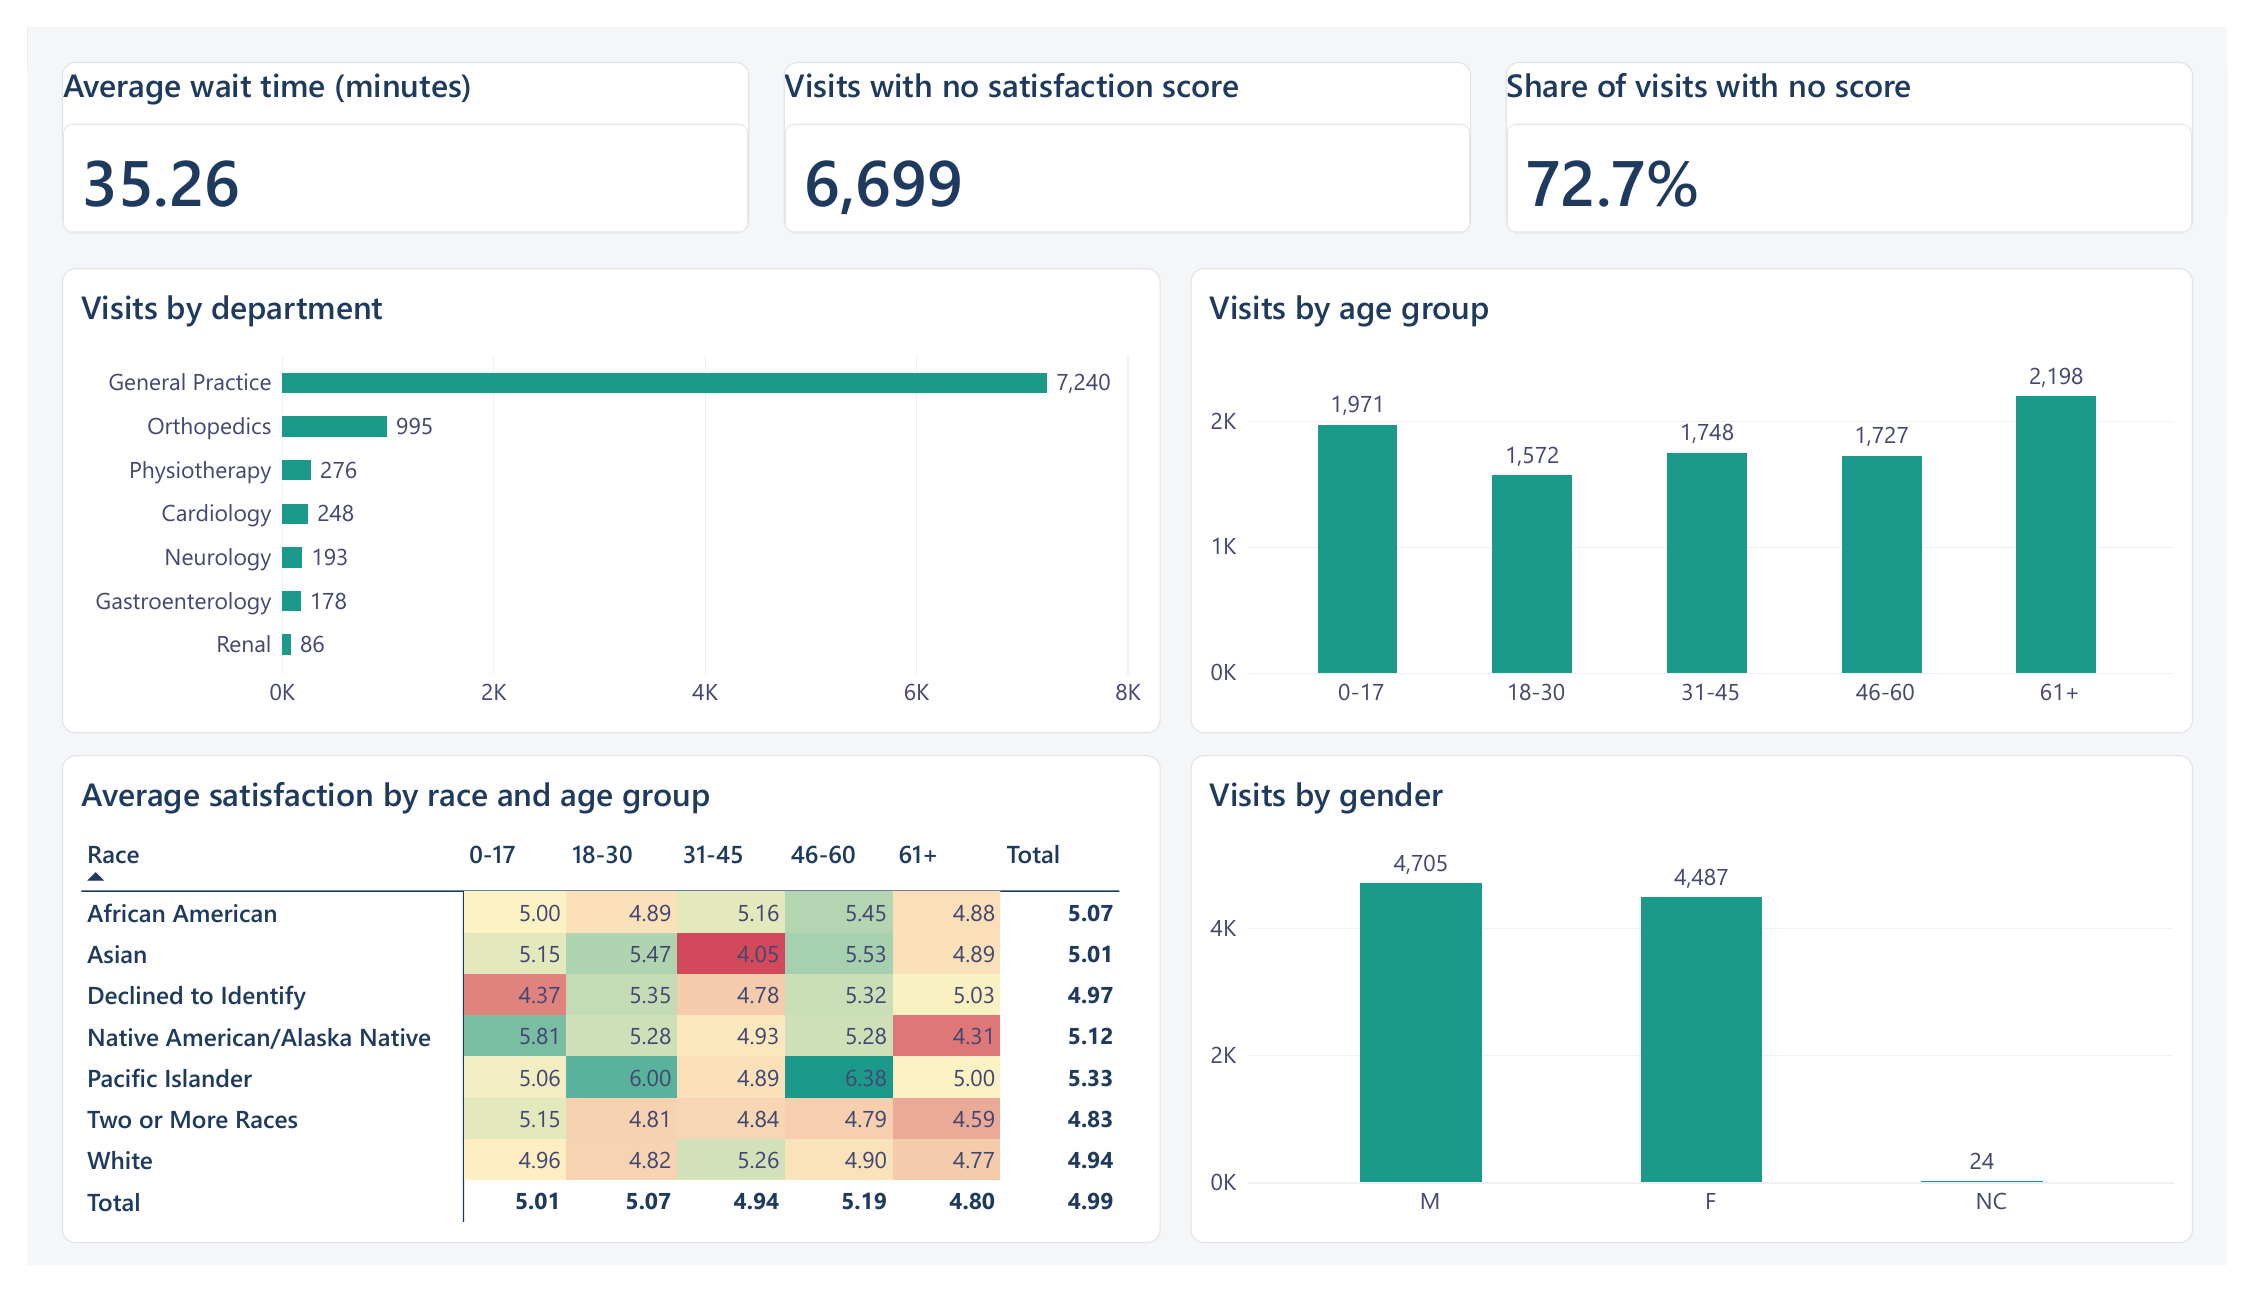

What the dashboard file says about the page in this screenshot:
{"tool":"powerbi","page":{"name":"Visits and Patients","canvas":[1920,1080],"ordinal":3},"visuals":[{"type":"clusteredBarChart","title":"Visits by department","fields":{"Category":["hospital_data.department_referral"],"Y":["hospital_data.total_visits"]},"box":[30.2,209.5,959,406.1],"z":0},{"type":"clusteredColumnChart","title":"Visits by age group","fields":{"Category":["hospital_data.age_group"],"Y":["hospital_data.total_visits"]},"box":[1015.2,209.5,874.8,406.1],"z":1000},{"type":"cardVisual","title":"Visits with no satisfaction score","fields":{"Data":["hospital_data.blank_scores"]},"box":[660,30,600,150],"z":2000},{"type":"cardVisual","title":"Share of visits with no score","fields":{"Data":["hospital_data.blank_score_pct"]},"box":[1290,30,600,150],"z":3000},{"type":"clusteredColumnChart","title":"Visits by gender","fields":{"Category":["hospital_data.patient_gender"],"Y":["hospital_data.total_visits"]},"box":[1015.2,635,874.8,425.5],"z":4000},{"type":"pivotTable","title":"Average satisfaction by race and age group","fields":{"Columns":["hospital_data.age_group"],"Rows":["hospital_data.patient_race"],"Values":["hospital_data.avg_satisfaction"]},"box":[30.2,635,959,425.5],"z":5000},{"type":"cardVisual","title":"Average wait time (minutes)","fields":{"Data":["hospital_data.avg_wait_time"]},"box":[30,30,600,150],"z":6000}]}

Visuals, with their boxes in screenshot pixels (x1, y1, x2, y2), scaled from the page's 1920x1080 canvas onto the 2255x1293 screenshot:
"Visits by department" clusteredBarChart: detection(35, 251, 1162, 737)
"Visits by age group" clusteredColumnChart: detection(1192, 251, 2220, 737)
"Visits with no satisfaction score" cardVisual: detection(775, 36, 1480, 216)
"Share of visits with no score" cardVisual: detection(1515, 36, 2220, 216)
"Visits by gender" clusteredColumnChart: detection(1192, 760, 2220, 1270)
"Average satisfaction by race and age group" pivotTable: detection(35, 760, 1162, 1270)
"Average wait time (minutes)" cardVisual: detection(35, 36, 740, 216)
